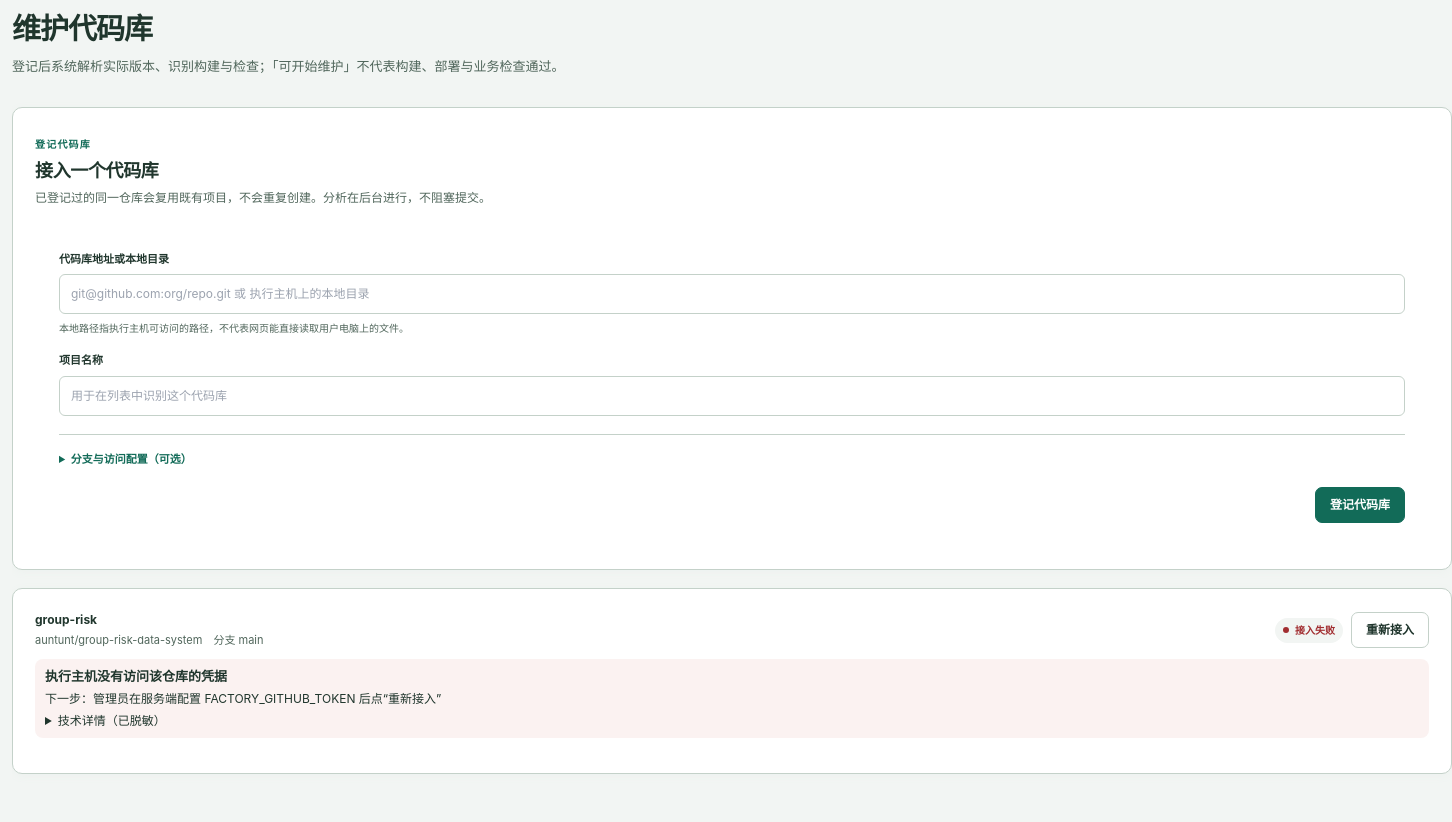
Test: 接入失败的仓库 › 列表直接显示原因、下一步，并能重新接入
Expected: the text "执行主机没有访问该仓库的凭据" is shown, [45,668,227,684]
Expected: the text "下一步：管理员在服务端配置 FACTORY_GITHUB_TOKEN 后点“重新接入”" is shown, [45,691,441,706]
Click the button "重新接入": coordinates (1390, 630) [1351,612,1429,648]
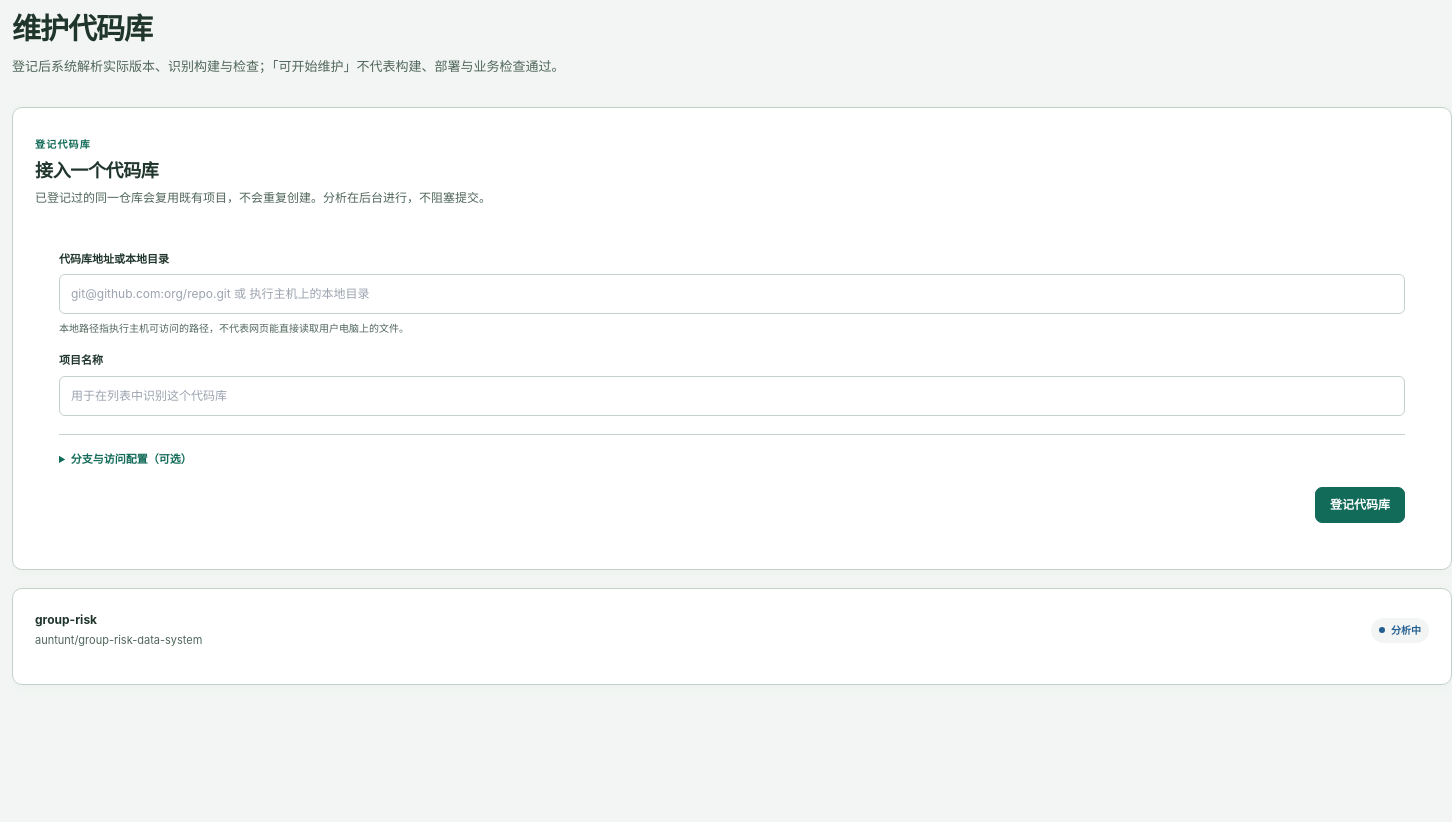
Expected: the text "分析中" is shown, [1371,618,1429,643]
